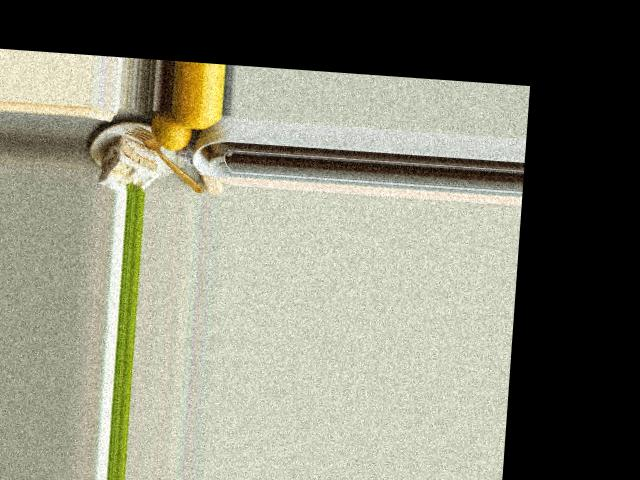lemon: (169, 110, 223, 132)
